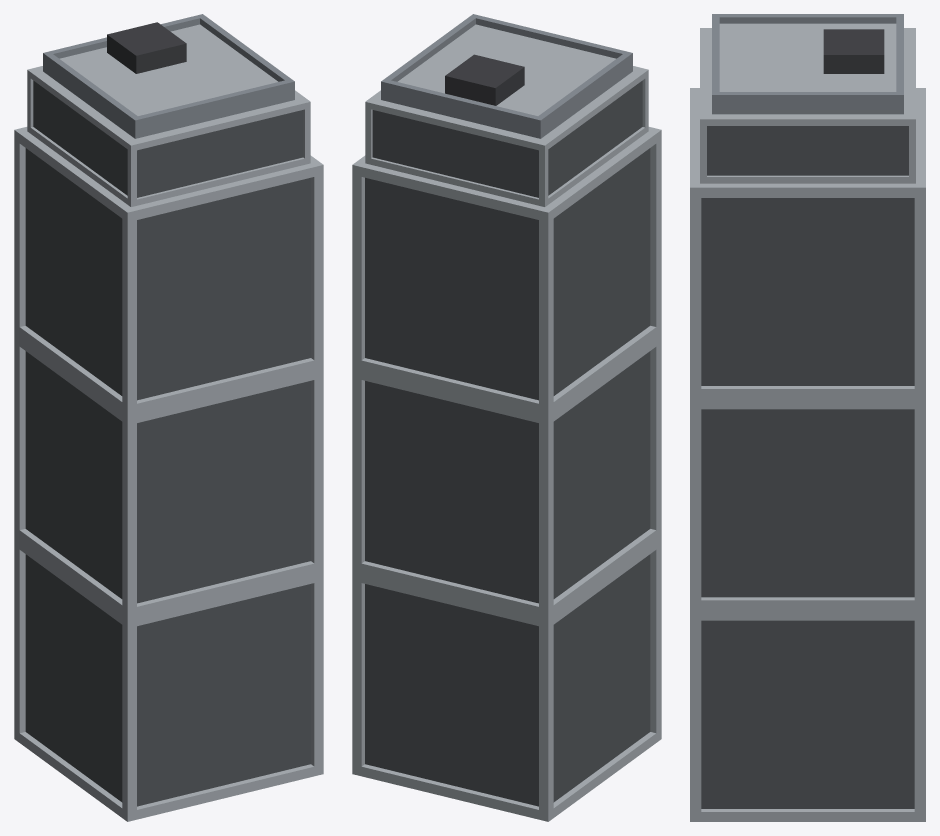
The model's file is talo14.fbx.
3 renders of one model, left to right at view 1: azimuth 30°, elevation 25°; view 2: azimuth 150°, elevation 25°; view 3: azimuth 270°, elevation 25°, orthographic. The views are drawn at different scales.
Parts seen in each view (by area): view 1: talo14; view 2: talo14; view 3: talo14.
Part boxes in pixels (bbox=[...]): talo14: bbox=[14, 14, 323, 821]; talo14: bbox=[352, 14, 661, 821]; talo14: bbox=[690, 14, 925, 821].
Bounding box in the file's own units: 106 × 361 × 106.
